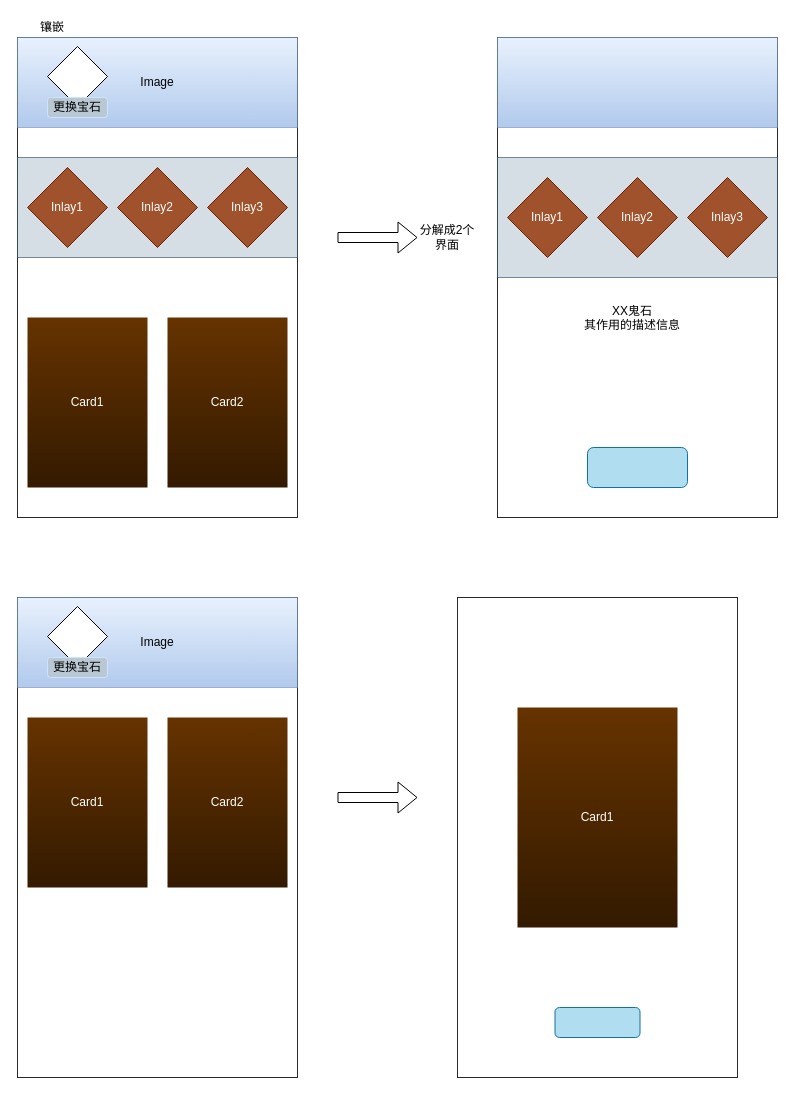
The diagram is 795 pixels wide and 1095 high, and some of its shapes have lost their labels. Here are the shapes that lost their labels. From the top down, the box of each, then its label:
(496, 36, 778, 128): 请选择需要镶嵌的鬼石
(586, 446, 688, 488): 确定
(554, 1006, 640, 1038): 确认镶嵌
